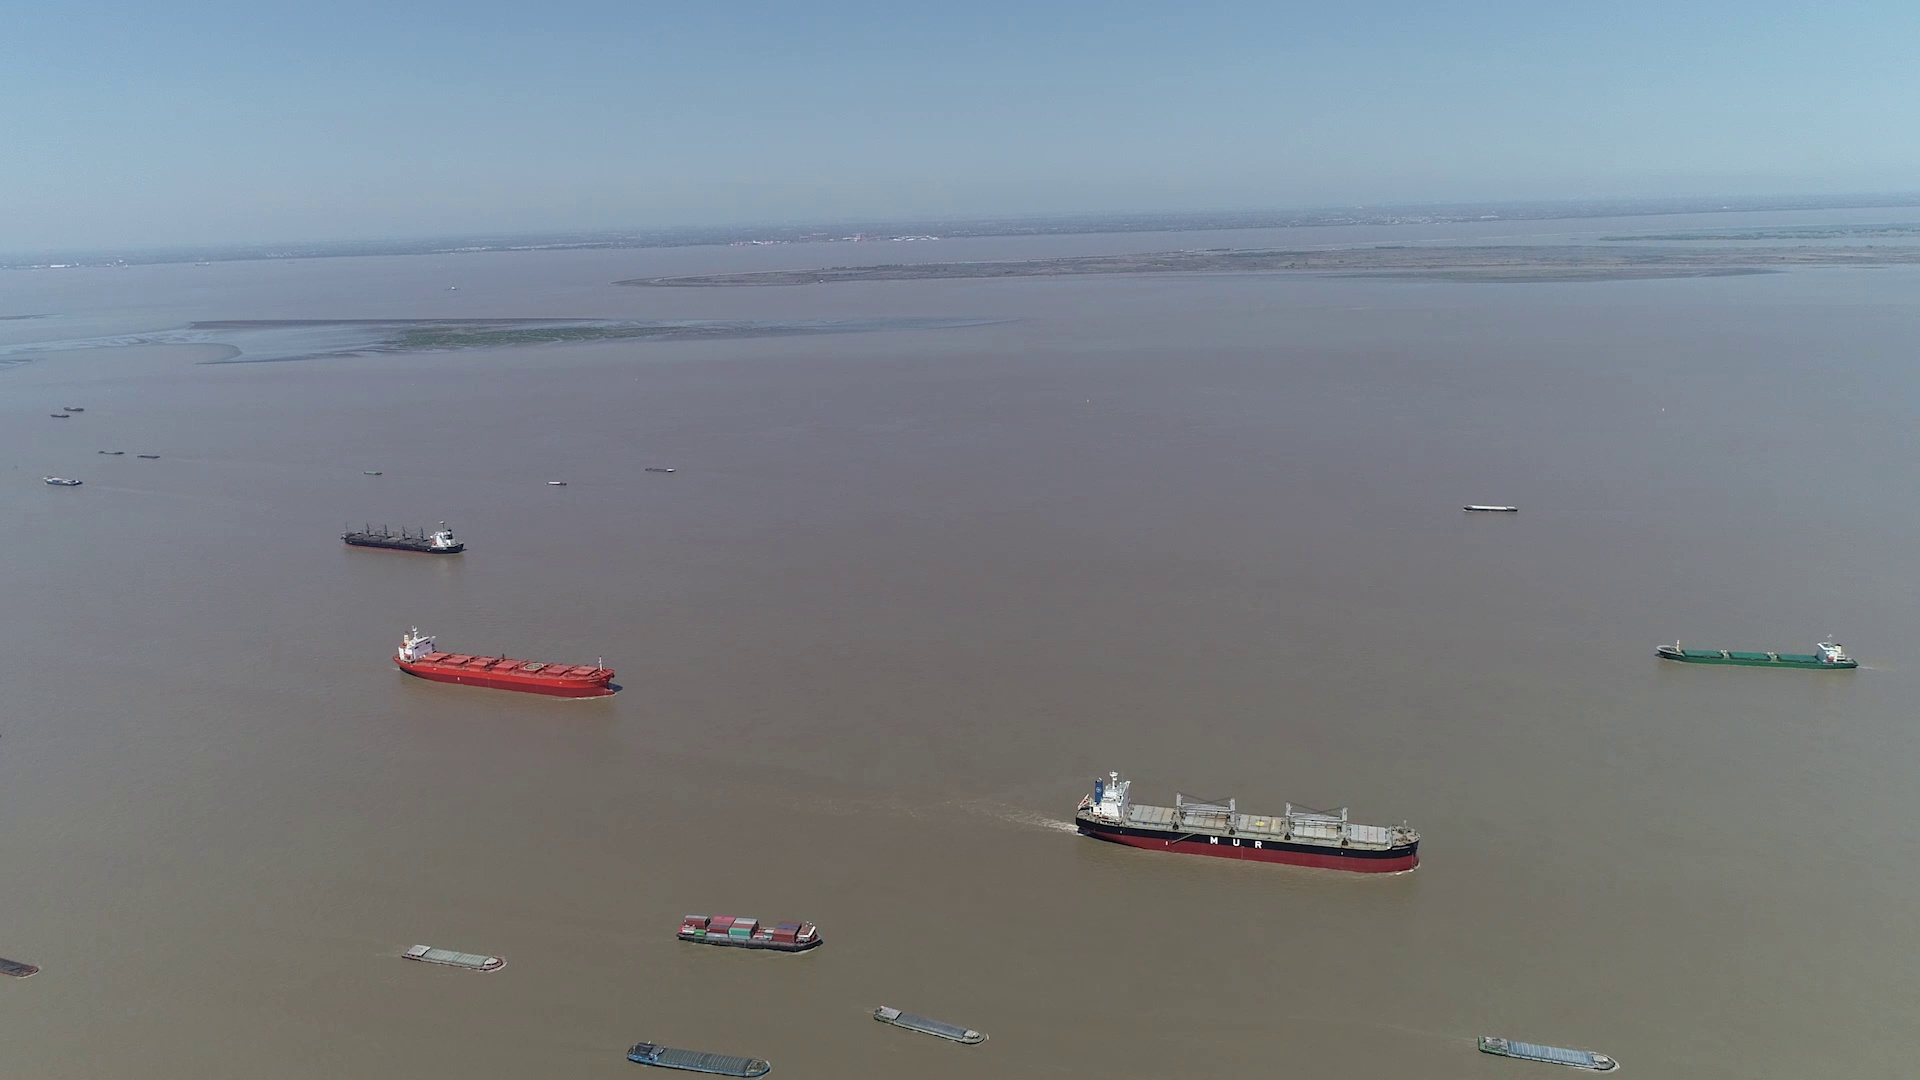ship: (1075, 773, 1420, 872), (394, 628, 613, 698), (1658, 637, 1857, 669), (626, 1040, 773, 1079), (679, 915, 823, 952), (1478, 1036, 1617, 1073), (873, 1005, 986, 1048), (342, 518, 464, 553), (402, 942, 504, 971), (0, 952, 38, 978), (1461, 502, 1518, 514), (44, 473, 82, 487), (644, 465, 678, 472)
